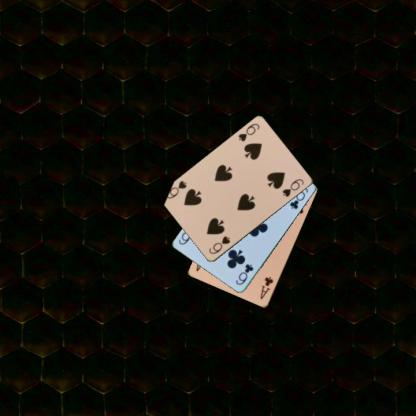6c: (233, 261, 255, 287)
6s: (206, 233, 231, 256), (236, 121, 260, 143)
Ac: (258, 274, 274, 300)
